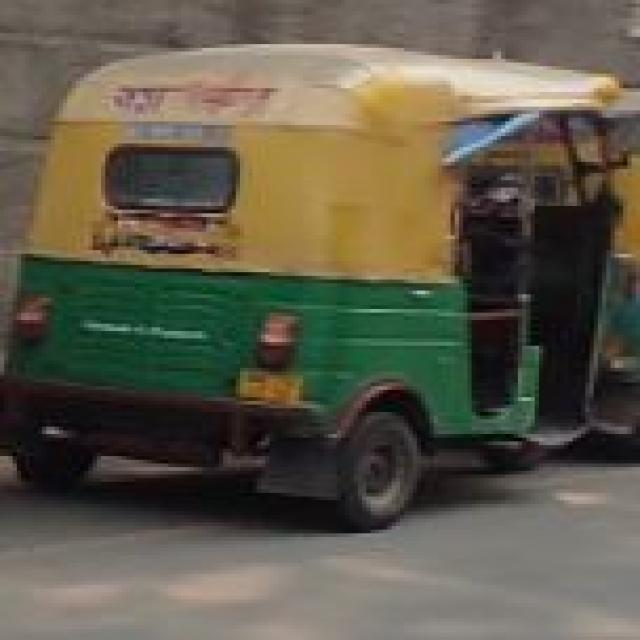autorickshaw: (13, 37, 627, 533)
